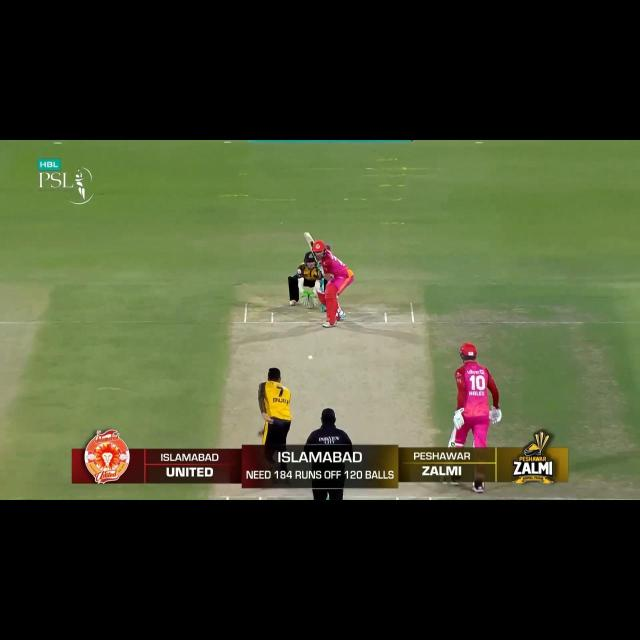bat: (304, 232, 320, 264), (448, 441, 455, 448)
toe: (304, 232, 312, 240)
